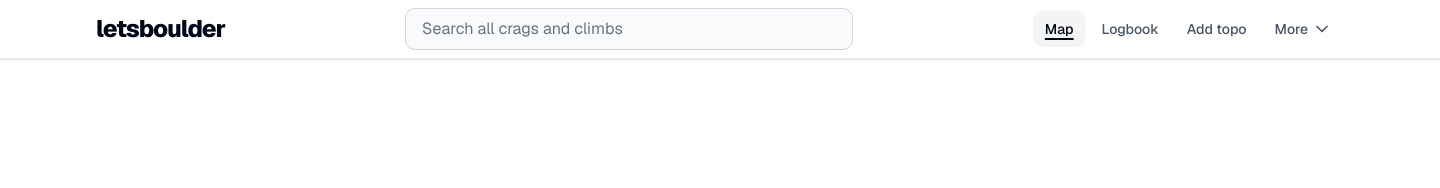
Test case: Header search › shows a retry action when either search query fails
This screenshot has width=1440, height=188.
Type "magic" into the dropdown labelled "Search all crags and climbs" at (629, 29), box [405, 8, 853, 50]
Wait 500 ms
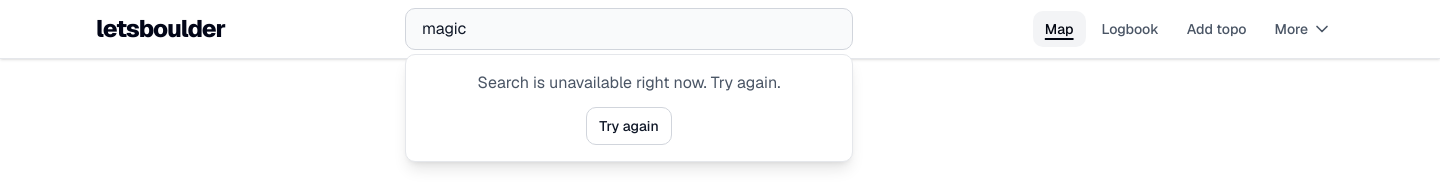
Check: the text "Search is unavailable right now. Try again." is shown, box [477, 72, 780, 93]
Check: the button "Try again" is shown, box [586, 107, 672, 145]
